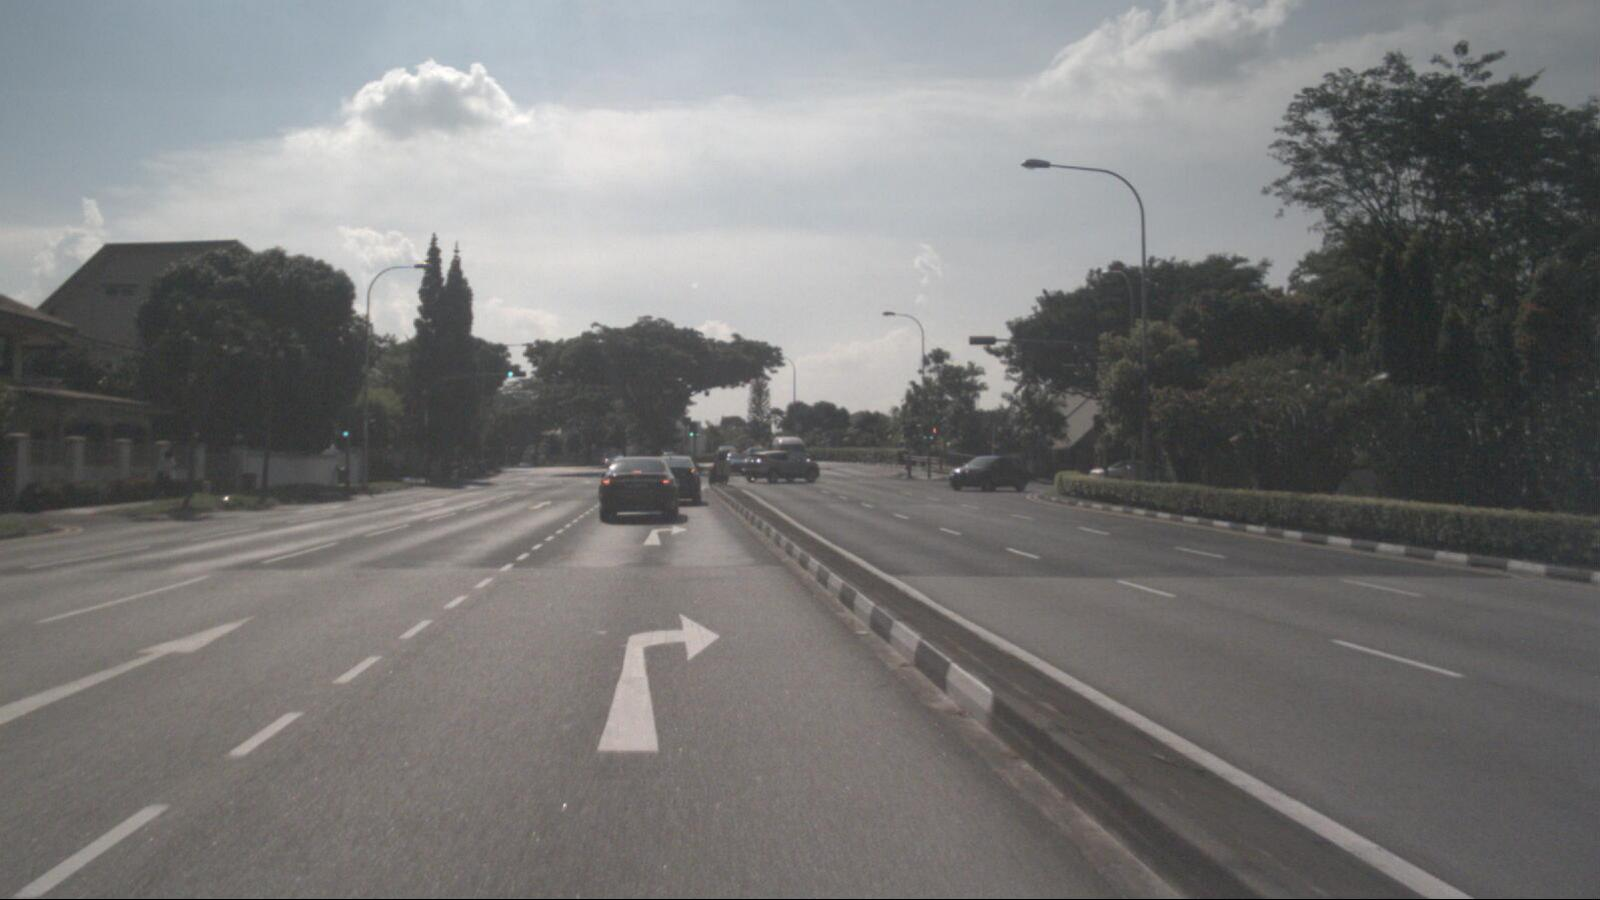vehicle.motorcycle-cycle.with_rider: (707, 450, 729, 486)
